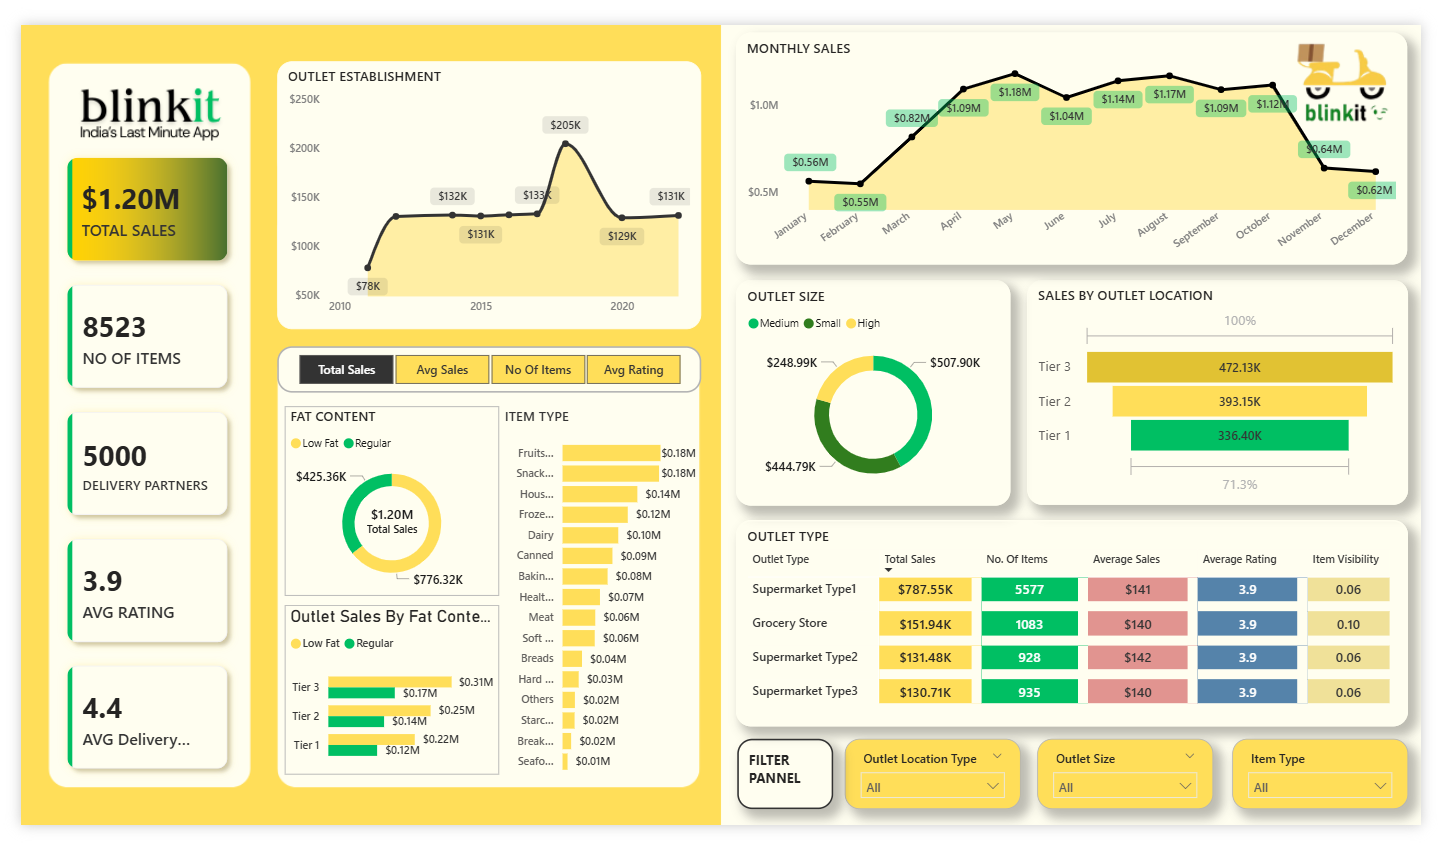

What the dashboard file says about the page in this screenshot:
{"tool":"powerbi","page":{"name":"Page 1","canvas":[1400,800],"ordinal":0},"visuals":[{"type":"cardVisual","fields":{"Data":["BlinkIT Grocery Data.Total Sales","BlinkIT Grocery Data.No. Of Items","blinkit_delivery_performance.DELIVERY PARTNERS","BlinkIT Grocery Data.Average Rating","BlinkIT Grocery Data.AVG Delivery Time"]},"box":[17.9,103.2,218.9,669.5],"z":0},{"type":"donutChart","title":"FAT CONTENT","fields":{"Y":["BlinkIT Grocery Data.Total Sales"],"Category":["BlinkIT Grocery Data.Item Fat Content"]},"box":[264.2,381.1,214.7,189.5],"z":1000},{"type":"slicer","fields":{"Values":["Matrics.Matrics"]},"box":[256,321,424,46.7],"z":2000},{"type":"cardVisual","fields":{"Data":["BlinkIT Grocery Data.Total Sales"]},"box":[298.9,450.5,145.3,90.5],"z":3000},{"type":"clusteredBarChart","title":"Outlet Sales By Fat Content","fields":{"Y":["BlinkIT Grocery Data.Total Sales"],"Category":["BlinkIT Grocery Data.Outlet Location Type"],"Series":["BlinkIT Grocery Data.Item Fat Content"]},"box":[264.2,580,214.7,169.5],"z":4000},{"type":"clusteredBarChart","title":"ITEM TYPE","fields":{"Y":["BlinkIT Grocery Data.Total Sales"],"Category":["BlinkIT Grocery Data.Item Type"]},"box":[479.3,381.5,201.1,377.2],"z":5000},{"type":"lineChart","title":"OUTLET ESTABLISHMENT","fields":{"Y":["BlinkIT Grocery Data.Total Sales"],"Category":["BlinkIT Grocery Data.Outlet Establishment Year"]},"box":[256,36,424,268],"z":6000},{"type":"donutChart","title":"OUTLET SIZE","fields":{"Y":["BlinkIT Grocery Data.Total Sales"],"Category":["BlinkIT Grocery Data.Outlet Size"]},"box":[715.6,255.6,274.4,225.6],"z":7000},{"type":"funnel","title":"SALES BY OUTLET LOCATION","fields":{"Y":["Sum(BlinkIT Grocery Data.Sales)"],"Category":["BlinkIT Grocery Data.Outlet Location Type"]},"box":[1006.7,255.6,381.1,224.4],"z":8000},{"type":"pivotTable","title":"OUTLET TYPE","fields":{"Rows":["BlinkIT Grocery Data.Outlet Type"],"Values":["BlinkIT Grocery Data.Total Sales","BlinkIT Grocery Data.No. Of Items","BlinkIT Grocery Data.Average Sales","BlinkIT Grocery Data.Average Rating","Avg(BlinkIT Grocery Data.Item Visibility)"]},"box":[715.6,495.6,672.2,206.7],"z":9000},{"type":"slicer","fields":{"Values":["BlinkIT Grocery Data.Outlet Location Type"]},"box":[823.2,713.7,175.8,70.5],"z":10000},{"type":"slicer","fields":{"Values":["BlinkIT Grocery Data.Outlet Size"]},"box":[1016.8,713.7,175.8,70.5],"z":11000},{"type":"slicer","fields":{"Values":["BlinkIT Grocery Data.Item Type"]},"box":[1211.6,713.7,175.8,70.5],"z":12000},{"type":"textbox","box":[715.8,713.7,95.8,70.5],"z":13000},{"type":"lineChart","title":"MONTHLY SALES","fields":{"Y":["Sum(blinkit_orders.order_total)"],"Category":["blinkit_orders.order_date.Variation.Date Hierarchy.Month"]},"box":[715.6,7.8,671.1,232.2],"z":14000}]}

Visuals, with their boxes in screenshot pixels (x1, y1, x2, y2), scaled from the page's 1400x800 canvas onto the 1442x847 screenshot:
cardVisual - BlinkIT Grocery Data.Total Sales x BlinkIT Grocery Data.No. Of Items: {"left": 18, "top": 109, "right": 244, "bottom": 818}
"FAT CONTENT" donutChart: {"left": 272, "top": 403, "right": 493, "bottom": 604}
slicer - Matrics.Matrics: {"left": 264, "top": 340, "right": 700, "bottom": 389}
cardVisual - BlinkIT Grocery Data.Total Sales: {"left": 308, "top": 477, "right": 458, "bottom": 573}
"Outlet Sales By Fat Content" clusteredBarChart: {"left": 272, "top": 614, "right": 493, "bottom": 794}
"ITEM TYPE" clusteredBarChart: {"left": 494, "top": 404, "right": 701, "bottom": 803}
"OUTLET ESTABLISHMENT" lineChart: {"left": 264, "top": 38, "right": 700, "bottom": 322}
"OUTLET SIZE" donutChart: {"left": 737, "top": 271, "right": 1020, "bottom": 509}
"SALES BY OUTLET LOCATION" funnel: {"left": 1037, "top": 271, "right": 1429, "bottom": 508}
"OUTLET TYPE" pivotTable: {"left": 737, "top": 525, "right": 1429, "bottom": 744}
slicer - BlinkIT Grocery Data.Outlet Location Type: {"left": 848, "top": 756, "right": 1029, "bottom": 830}
slicer - BlinkIT Grocery Data.Outlet Size: {"left": 1047, "top": 756, "right": 1228, "bottom": 830}
slicer - BlinkIT Grocery Data.Item Type: {"left": 1248, "top": 756, "right": 1429, "bottom": 830}
textbox: {"left": 737, "top": 756, "right": 836, "bottom": 830}
"MONTHLY SALES" lineChart: {"left": 737, "top": 8, "right": 1428, "bottom": 254}
